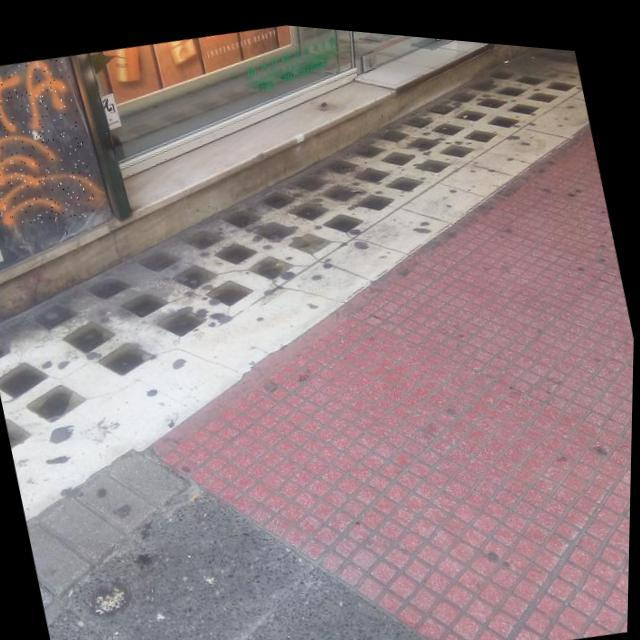-: (0, 50, 101, 242)
